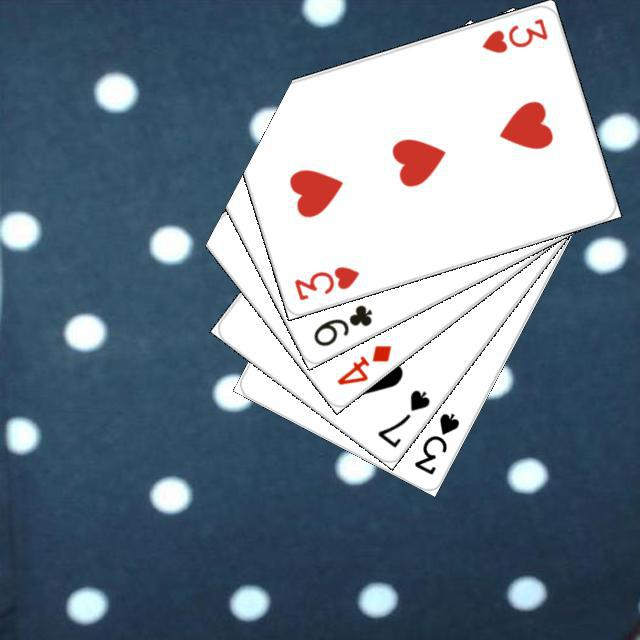3h: (477, 13, 550, 55), (289, 261, 361, 302)
3s: (409, 407, 461, 477)
4d: (332, 339, 394, 387)
7s: (372, 384, 432, 450)
9c: (308, 300, 375, 349)
